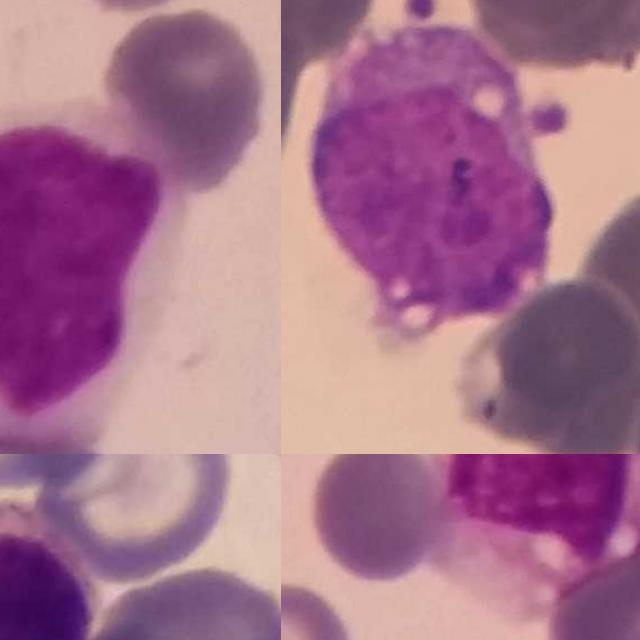Lymphocyte: (306, 24, 554, 322), (0, 500, 101, 640)
Monocyte: (0, 108, 193, 448), (430, 454, 640, 611)
